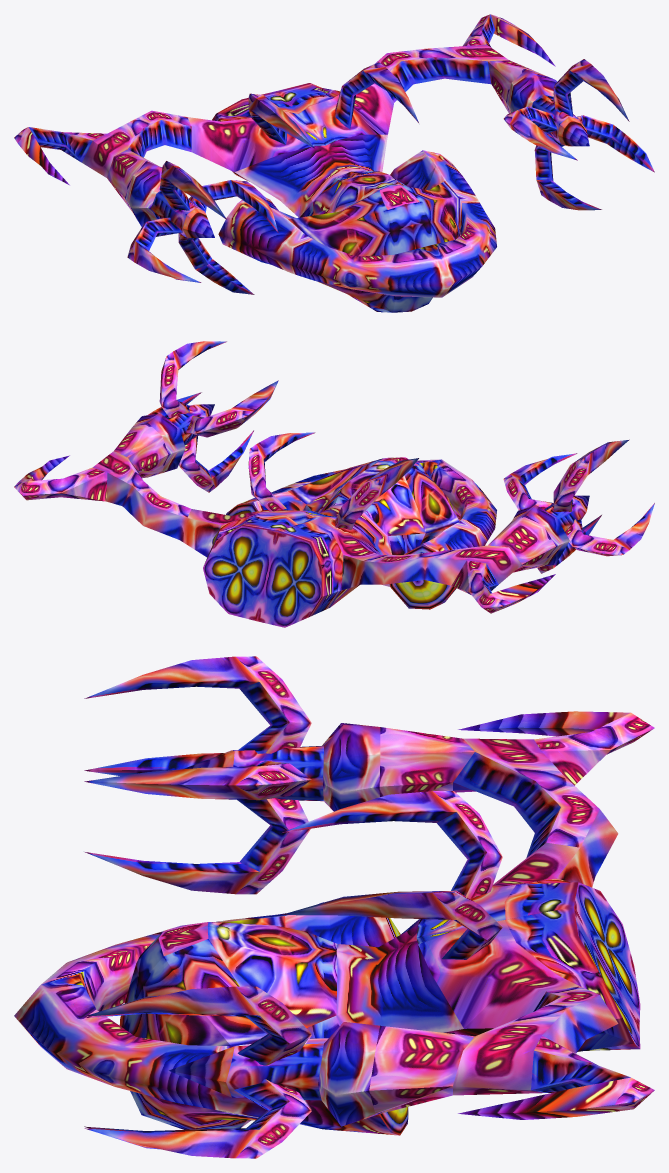
File: boss-01.fbx
3 views of the same model, one above another, from view 1: azimuth 30°, elevation 25°; view 2: azimuth 150°, elevation 25°; view 3: azimuth 270°, elevation 25° (orthographic). The views are drawn at different scales.
Visible parts, largest first — view 1: boss-01; view 2: boss-01; view 3: boss-01.
Part boxes in pixels (bbox=[...]): boss-01: bbox=[14, 14, 654, 312]; boss-01: bbox=[14, 341, 654, 627]; boss-01: bbox=[14, 656, 654, 1158].
Bounding box in the file's own units: 294 × 102 × 201.
